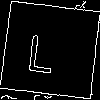L: (25, 24, 59, 74)
